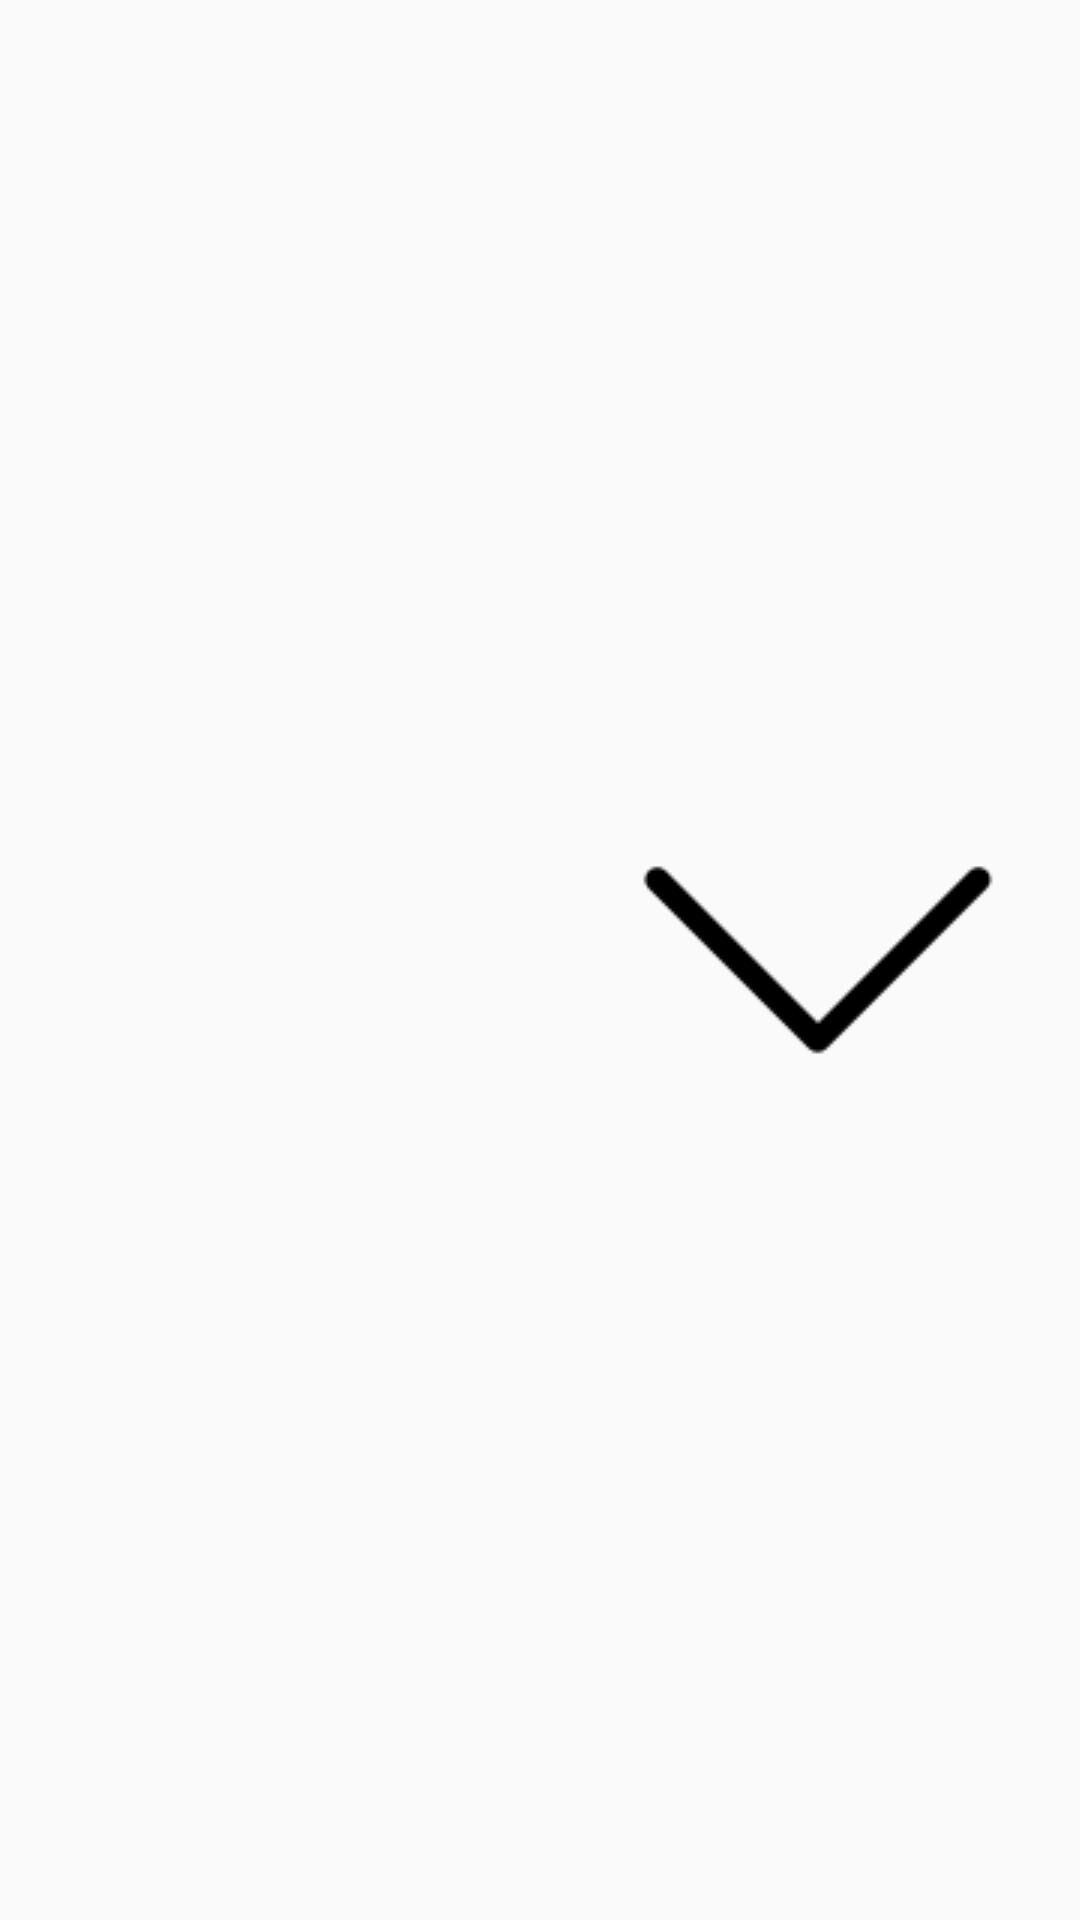

Named icons in this screenshot (1080*1920) and their bounding boxes, (x1, y1, x2, y2):
down arrow: (643, 866, 993, 1054)
